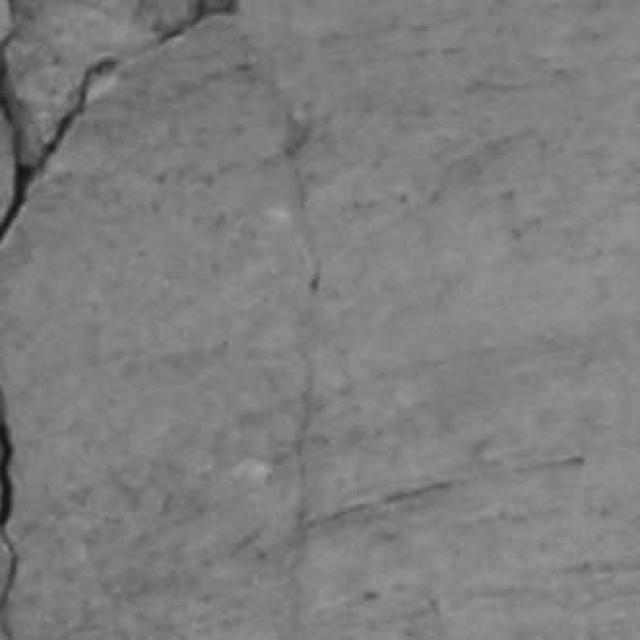crack: (256, 53, 321, 639), (0, 32, 120, 246), (0, 49, 118, 246), (305, 474, 480, 531), (0, 390, 19, 639), (158, 0, 238, 44)
